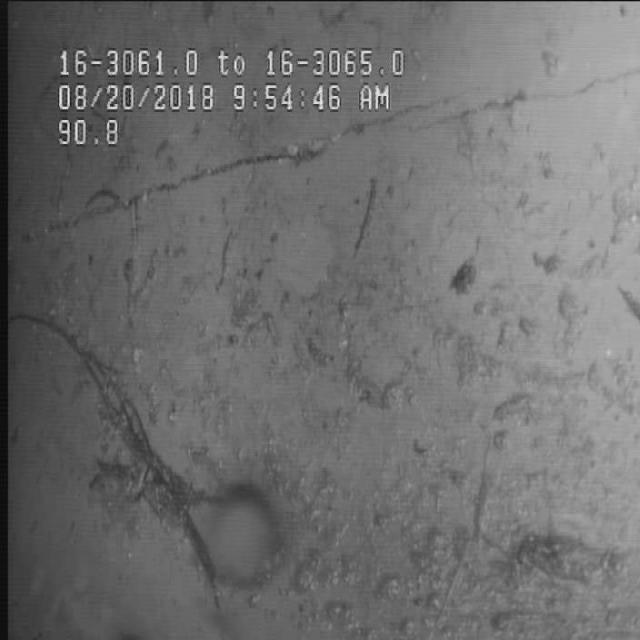Crack: (58, 123, 390, 257)
